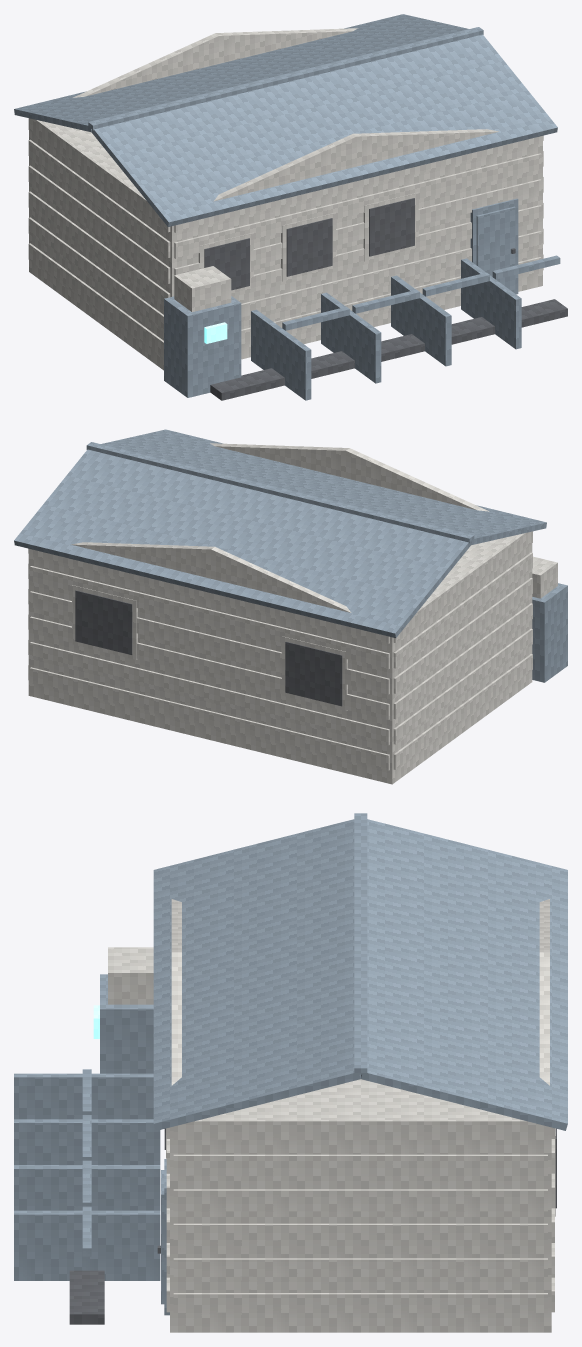
Rendered from pixel-modern-farm-milking-parlour-ce3511ca__29104.glb.
3 renders of one model, top to bottom at view 1: azimuth 30°, elevation 25°; view 2: azimuth 150°, elevation 25°; view 3: azimuth 270°, elevation 25°, orthographic. The views are drawn at different scales.
Visible parts, largest first — view 1: milking-parlour, door/slate; view 2: milking-parlour; view 3: milking-parlour, door/slate.
Part boxes in pixels (x1,y1,x2,y2): milking-parlour: [14, 14, 567, 400]; door/slate: [470, 198, 518, 294]; milking-parlour: [14, 429, 567, 784]; milking-parlour: [14, 813, 567, 1332]; door/slate: [161, 1159, 169, 1315].
Bounding box in the file's own units: 9.49 × 4.7 × 8.7.
4 materials, 4 textured.
